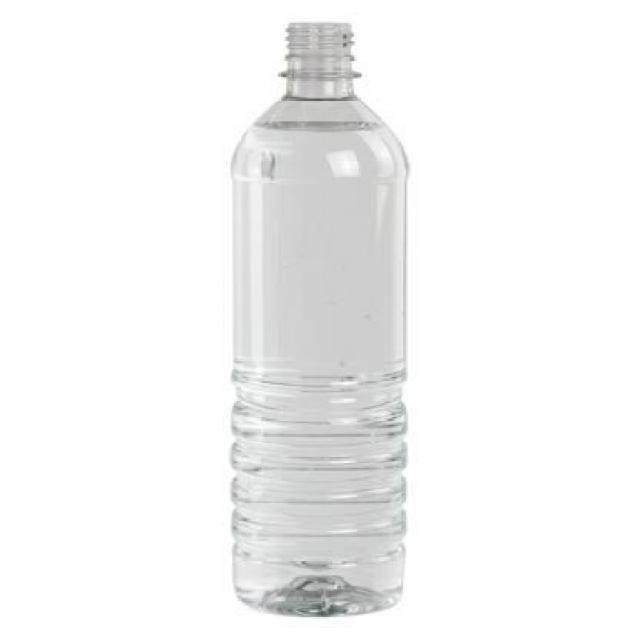bottle: (208, 13, 426, 604)
